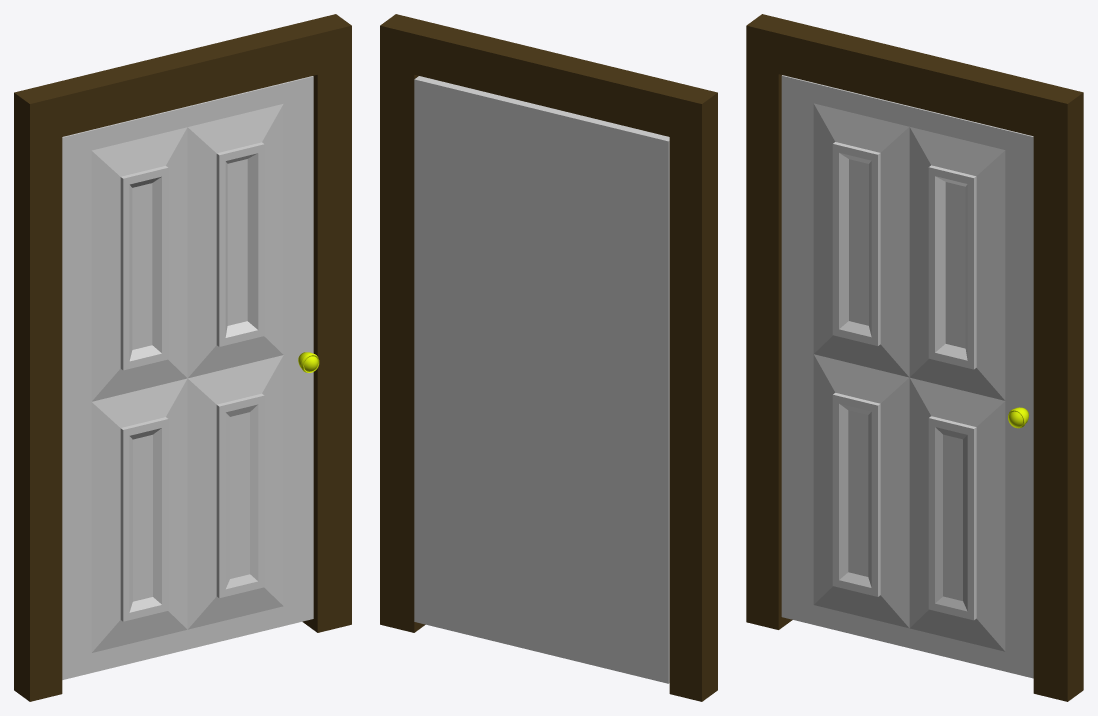
File: Door_188.gltf
3 views of the same model, side by side, from view 1: azimuth 30°, elevation 25°; view 2: azimuth 150°, elevation 25°; view 3: azimuth 330°, elevation 25° (orthographic).
Visible parts, largest first — view 1: node-0; view 2: node-0; view 3: node-0.
Boxes of the visible parts, x1=… form: node-0: x1=14, y1=14, x2=351, y2=701; node-0: x1=380, y1=14, x2=717, y2=701; node-0: x1=746, y1=14, x2=1083, y2=701.
Size of the model in its own units: 37.28 by 66.27 by 5.05.
